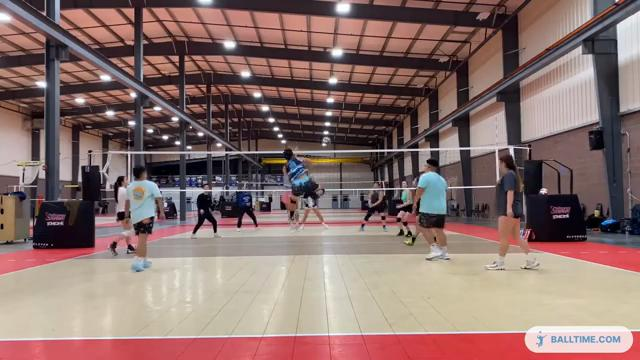attacco: (280, 144, 320, 225)
